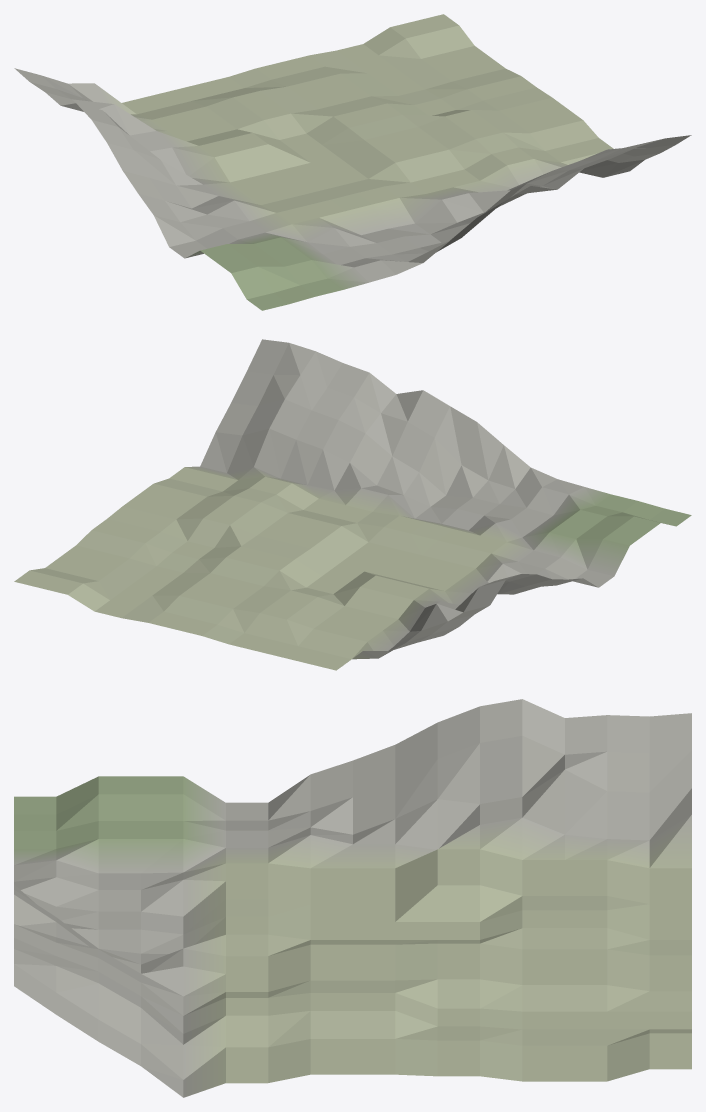
3 renders of one model, top to bottom at view 1: azimuth 30°, elevation 25°; view 2: azimuth 150°, elevation 25°; view 3: azimuth 270°, elevation 25°, orthographic. The views are drawn at different scales.
Bounding box in the file's own units: 32 × 6.04 × 32.
